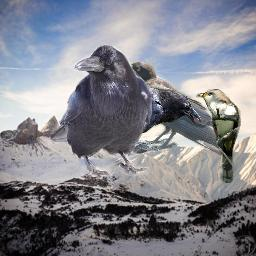Crow: (48, 43, 152, 177), (115, 62, 231, 155), (136, 87, 201, 151)
Cuckoo: (196, 89, 241, 183)
